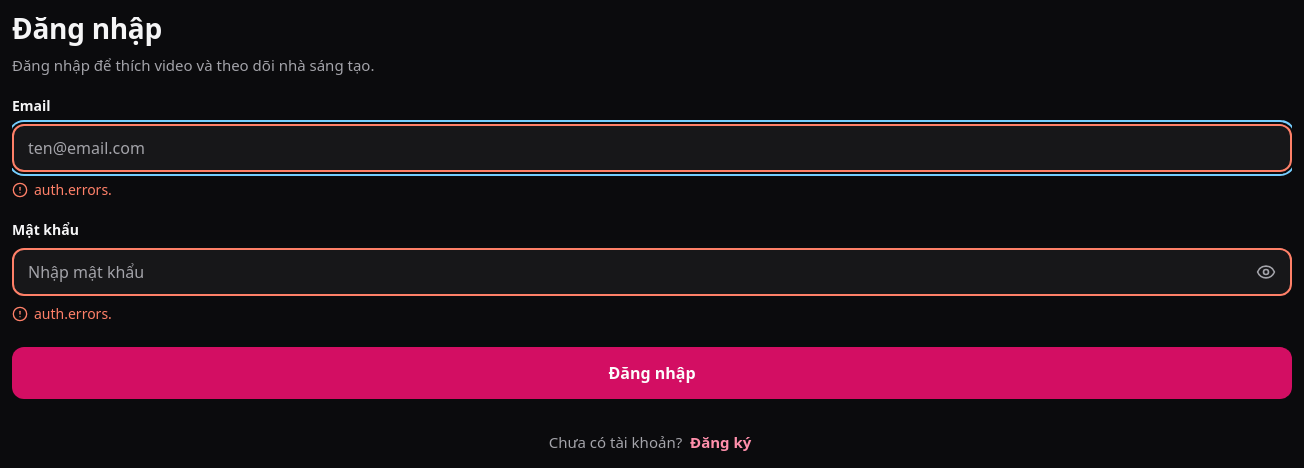
Test: AuthForm › checks the fields before sending: a malformed email and a short password never reach the action
Type "minhanh@gmail" into the field labelled "Email" at (652, 148), box [14,126,1290,170]
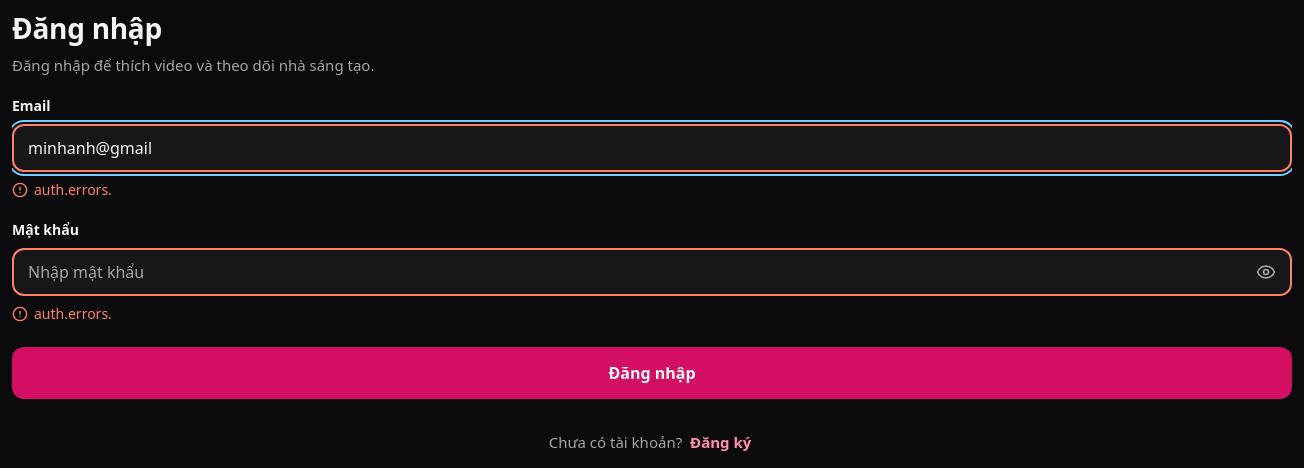
Type "1234" into the password field labelled "Mật khẩu" at (629, 272), box [14,250,1244,294]
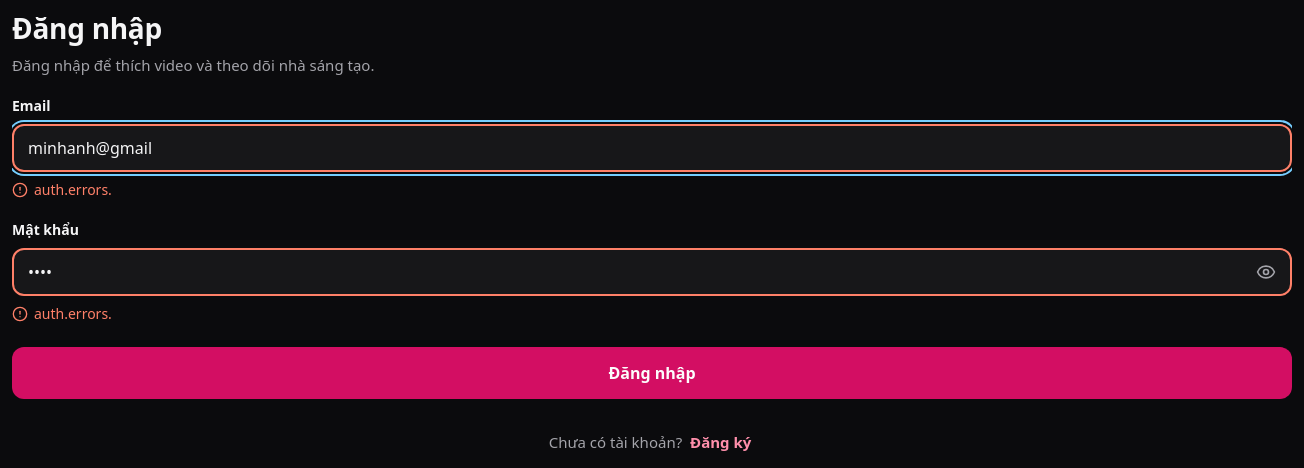
Click the button "Đăng nhập" at (652, 373), box [12,347,1292,399]
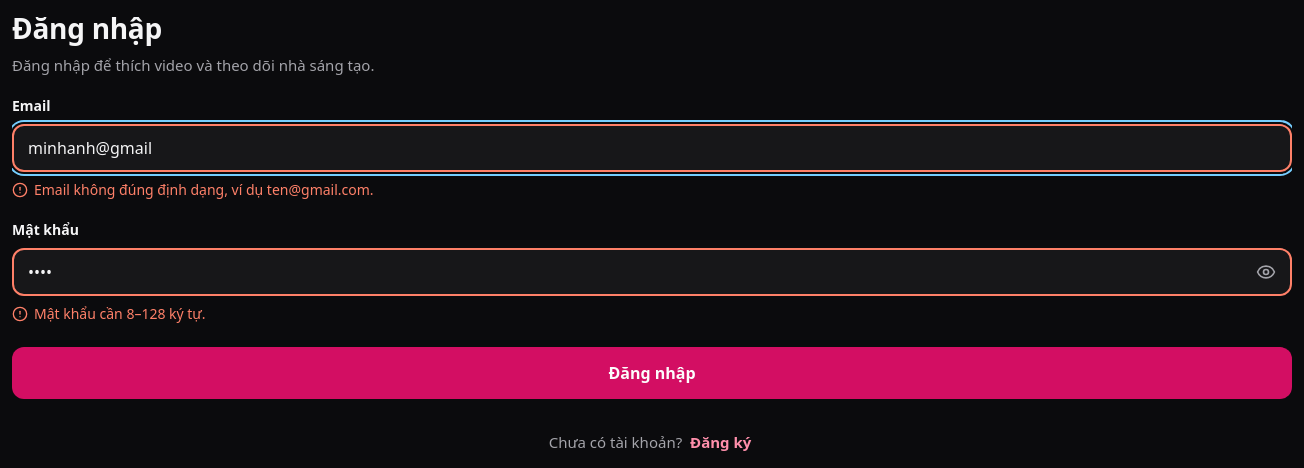
Expected: the text "Email không đúng định dạng, ví dụ ten@gmail.com." is shown, [34,180,374,200]
Expected: the text "Mật khẩu cần 8–128 ký tự." is shown, [34,304,206,323]
